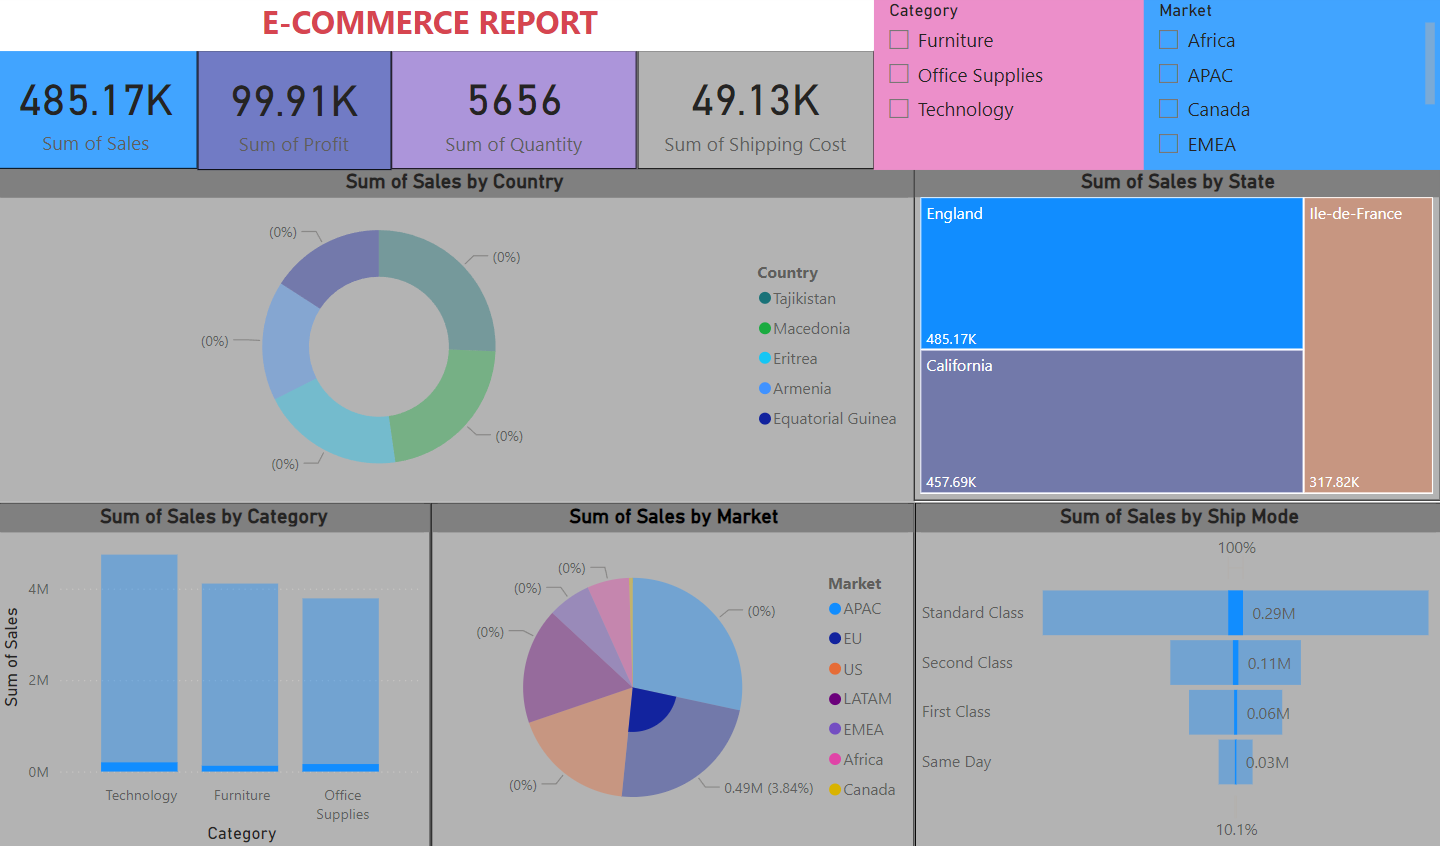

This screenshot's page, from the dashboard's own definition file:
{"tool":"powerbi","page":{"name":"Page 1","canvas":[1280,720],"ordinal":0},"visuals":[{"type":"columnChart","fields":{"Category":["Orders.Category"],"Y":["Sum(Orders.Sales)"]},"box":[0,427.8,366.7,292.2],"z":0},{"type":"pieChart","fields":{"Category":["Orders.Market"],"Y":["Sum(Orders.Sales)"]},"box":[366.7,427.8,406.7,292.2],"z":1000},{"type":"funnel","fields":{"Category":["Orders.Ship Mode"],"Y":["Sum(Orders.Sales)"]},"box":[773.3,427.8,443.3,292.2],"z":2000},{"type":"donutChart","fields":{"Category":["Orders.Country"],"Y":["Sum(Orders.Sales)"]},"box":[0,147.7,773.3,280.2],"z":3000},{"type":"treemap","fields":{"Values":["Sum(Orders.Sales)"],"Group":["Orders.State"]},"box":[773.3,146.5,443,280.2],"z":4000},{"type":"card","fields":{"Values":["Sum(Orders.Sales)"]},"box":[0,46.3,170.3,100.9],"z":5000},{"type":"card","fields":{"Values":["Sum(Orders.Profit)"]},"box":[170.3,47.3,163,100.9],"z":6000},{"type":"card","fields":{"Values":["Sum(Orders.Quantity)"]},"box":[333.3,47.8,206.7,100],"z":7000},{"type":"card","fields":{"Values":["Sum(Orders.Shipping Cost)"]},"box":[540,47.8,198.9,100],"z":8000},{"type":"slicer","fields":{"Values":["Orders.Category"]},"box":[738.9,0,227.8,147.8],"z":9000},{"type":"slicer","fields":{"Values":["Orders.Market"]},"box":[966.3,0,250,147.7],"z":10000},{"type":"textbox","box":[0,0,738.9,47.8],"z":11000}]}

Visuals, with their boxes on the page's 1280x720 design canvas (x1, y1, x2, y2). These are canvas units, not pixel positions in the 1440x846 screenshot, which may show the page scaled, cropped or inside an application window:
columnChart - Orders.Category x Sum(Orders.Sales): [left=0, top=428, right=367, bottom=720]
pieChart - Orders.Market x Sum(Orders.Sales): [left=367, top=428, right=773, bottom=720]
funnel - Orders.Ship Mode x Sum(Orders.Sales): [left=773, top=428, right=1217, bottom=720]
donutChart - Orders.Country x Sum(Orders.Sales): [left=0, top=148, right=773, bottom=428]
treemap - Sum(Orders.Sales) x Orders.State: [left=773, top=146, right=1216, bottom=427]
card - Sum(Orders.Sales): [left=0, top=46, right=170, bottom=147]
card - Sum(Orders.Profit): [left=170, top=47, right=333, bottom=148]
card - Sum(Orders.Quantity): [left=333, top=48, right=540, bottom=148]
card - Sum(Orders.Shipping Cost): [left=540, top=48, right=739, bottom=148]
slicer - Orders.Category: [left=739, top=0, right=967, bottom=148]
slicer - Orders.Market: [left=966, top=0, right=1216, bottom=148]
textbox: [left=0, top=0, right=739, bottom=48]
